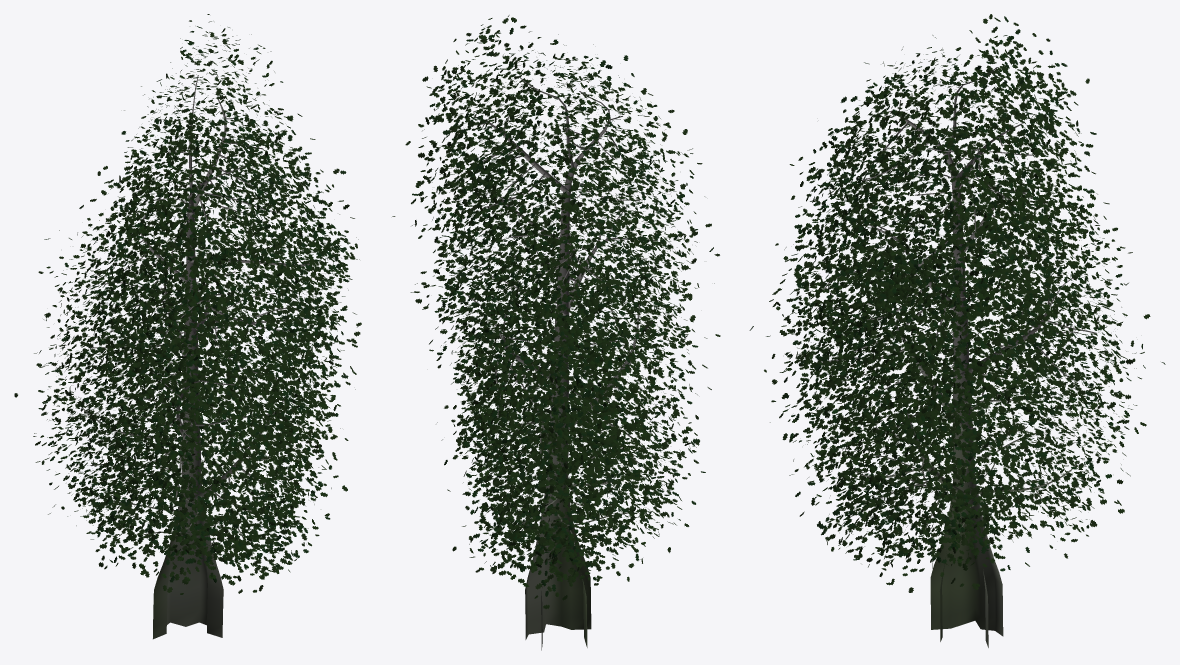
File: SM_Tree_holly_1.glb
3 views of the same model, side by side, from view 1: azimuth 30°, elevation 25°; view 2: azimuth 150°, elevation 25°; view 3: azimuth 270°, elevation 25° (orthographic). The views are drawn at different scales.
Parts seen in each view (by area): view 1: SM_Tree_holly_1; view 2: SM_Tree_holly_1; view 3: SM_Tree_holly_1.
Part boxes in pixels (x1,y1,x2,y2): SM_Tree_holly_1: (14, 14, 361, 639); SM_Tree_holly_1: (392, 15, 720, 650); SM_Tree_holly_1: (749, 14, 1165, 647).
Bounding box in the file's own units: 4.01 × 8.85 × 5.2.
